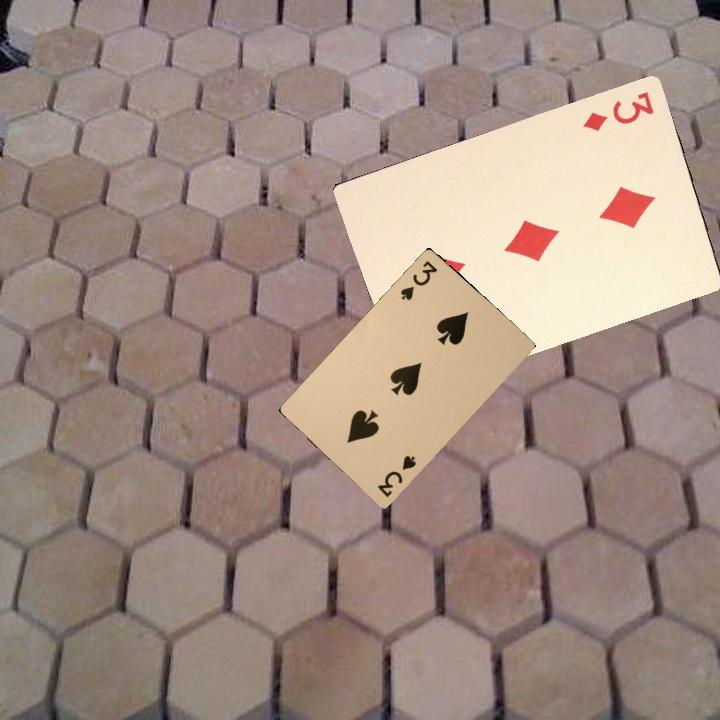3d: (578, 87, 656, 134)
3s: (373, 451, 419, 500), (396, 256, 440, 303)
